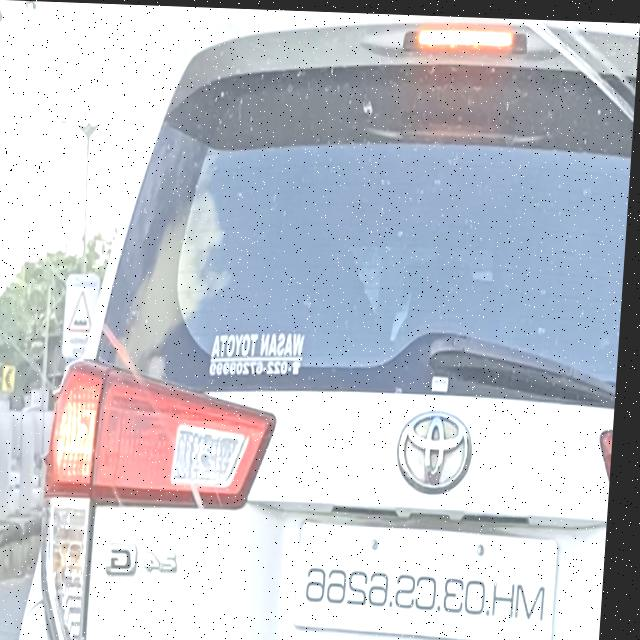plate: (294, 512, 570, 640)
